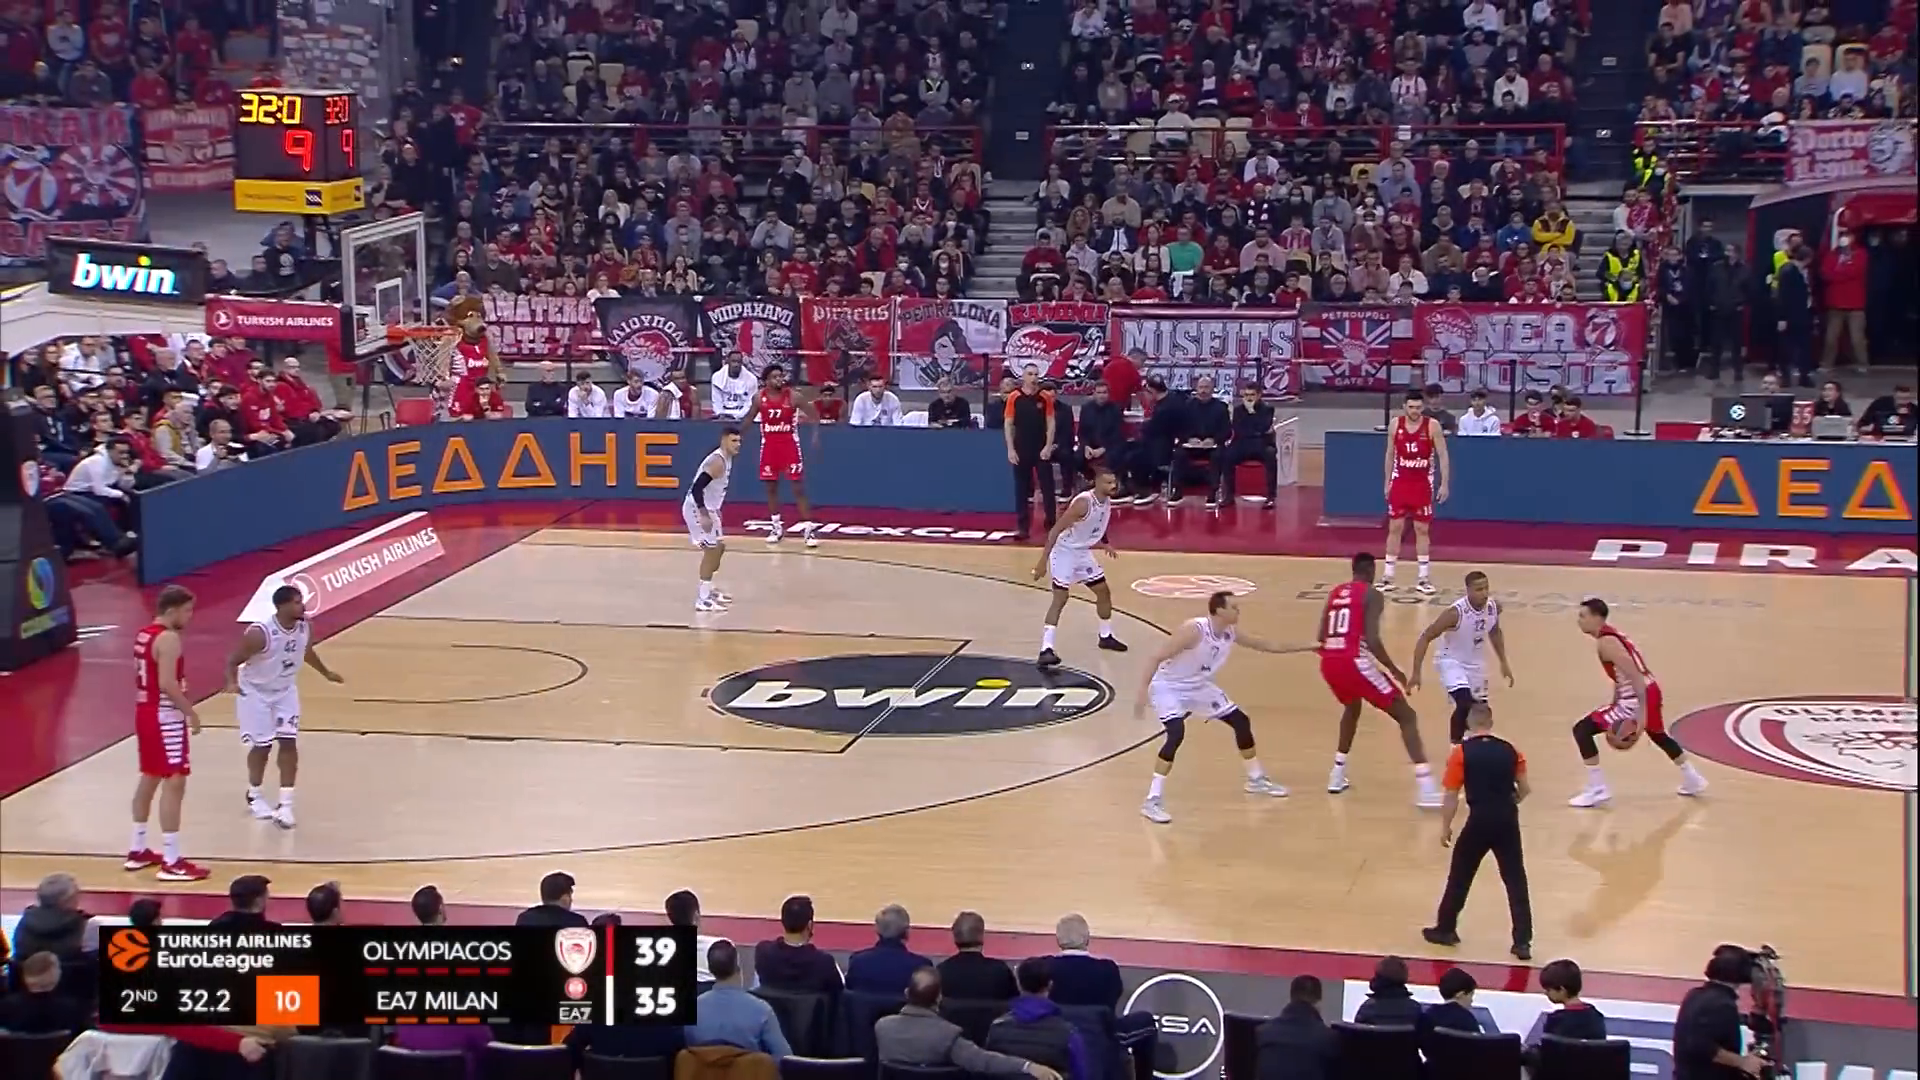ball: (1605, 717, 1640, 749)
net: (407, 323, 463, 386)
